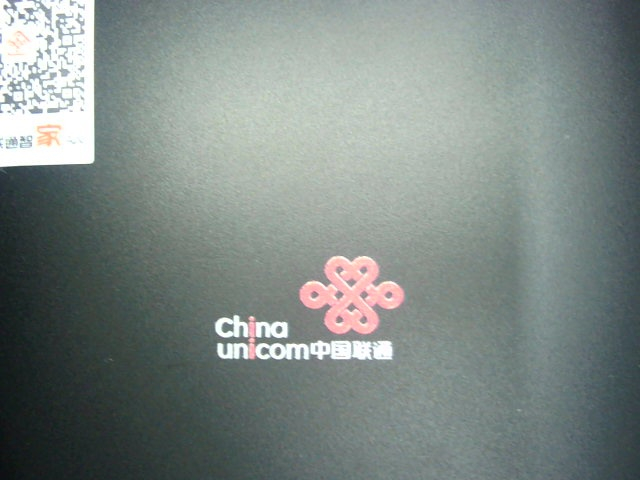AC_ChinaUnicom: (204, 246, 411, 362)
